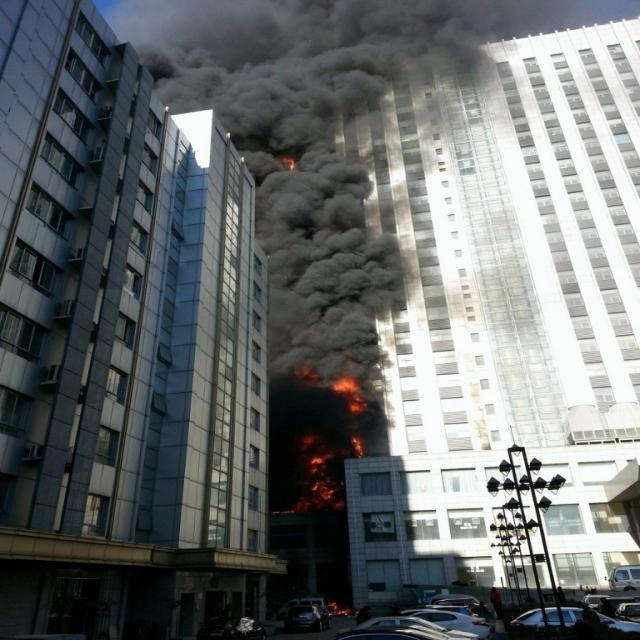Fire: (298, 434, 346, 510), (333, 376, 368, 416)
Smoke: (128, 0, 540, 374)
